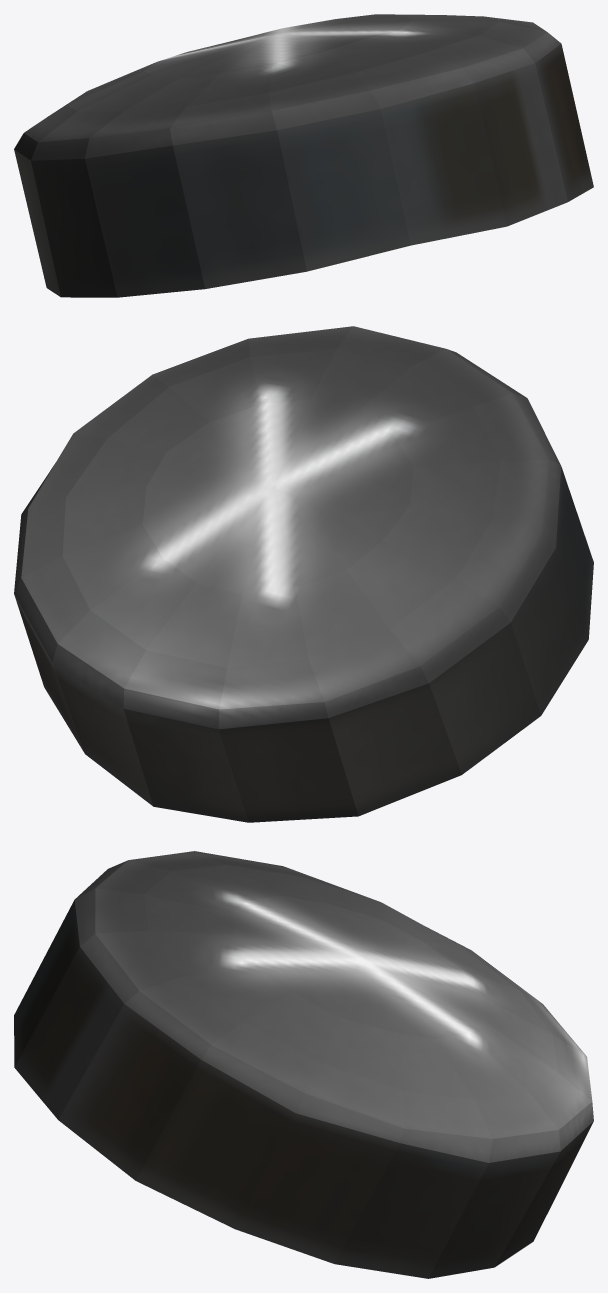
The model's file is pfd_mr_controller_left_xbutton.obj.
3 renders of one model, top to bottom at view 1: azimuth 30°, elevation 25°; view 2: azimuth 150°, elevation 25°; view 3: azimuth 270°, elevation 25°, orthographic.
Parts seen in each view (by area): view 1: pfd_mr_controller_left_xbutton; view 2: pfd_mr_controller_left_xbutton; view 3: pfd_mr_controller_left_xbutton.
Part boxes in pixels (x1,y1,x2,y2): pfd_mr_controller_left_xbutton: (14,14,593,297); pfd_mr_controller_left_xbutton: (14,326,593,822); pfd_mr_controller_left_xbutton: (14,851,593,1278).
Size of the model in its own units: 0.0104 by 0.00653 by 0.0108.
1 material, 1 textured.
